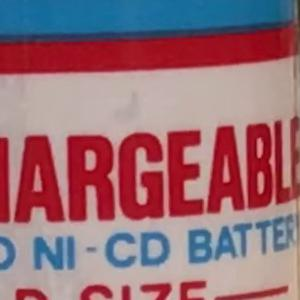NI-CD: (23, 222, 180, 280)
